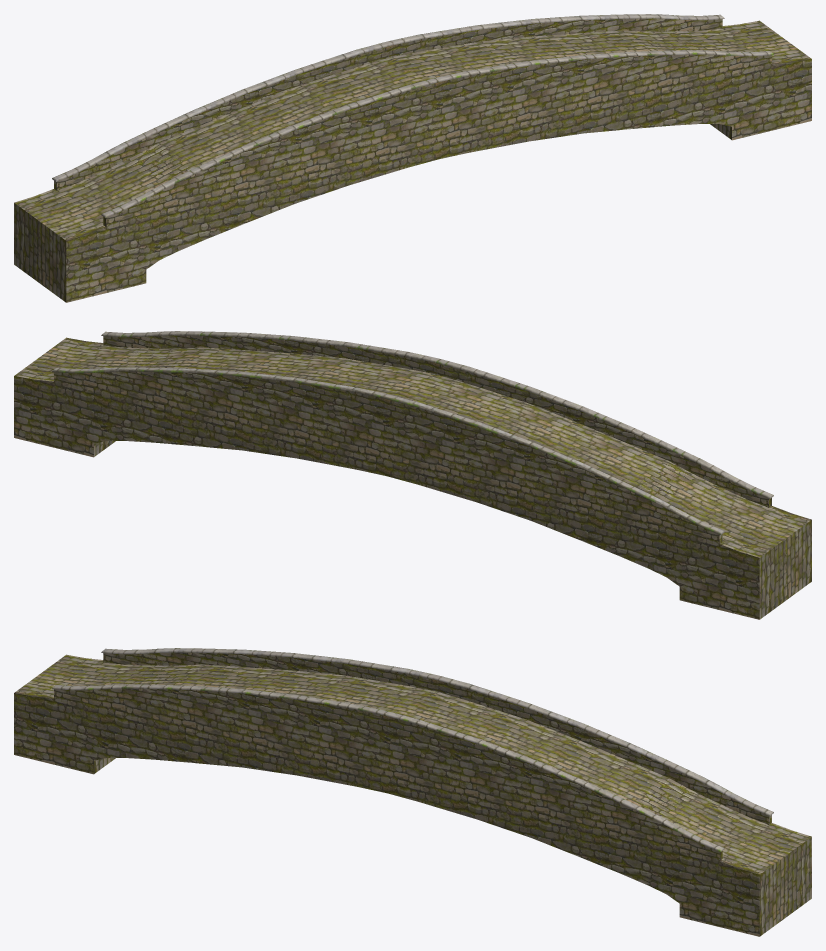
Rendered from Ponte.fbx.
3 views of the same model, one above another, from view 1: azimuth 30°, elevation 25°; view 2: azimuth 150°, elevation 25°; view 3: azimuth 330°, elevation 25° (orthographic).
Parts seen in each view (by area): view 1: Ponte; view 2: Ponte; view 3: Ponte.
Boxes of the visible parts, x1=… form: Ponte: x1=14, y1=14, x2=811, y2=302; Ponte: x1=14, y1=331, x2=811, y2=619; Ponte: x1=14, y1=648, x2=811, y2=936.
Size of the model in its own units: 6648 by 1127 by 823.
